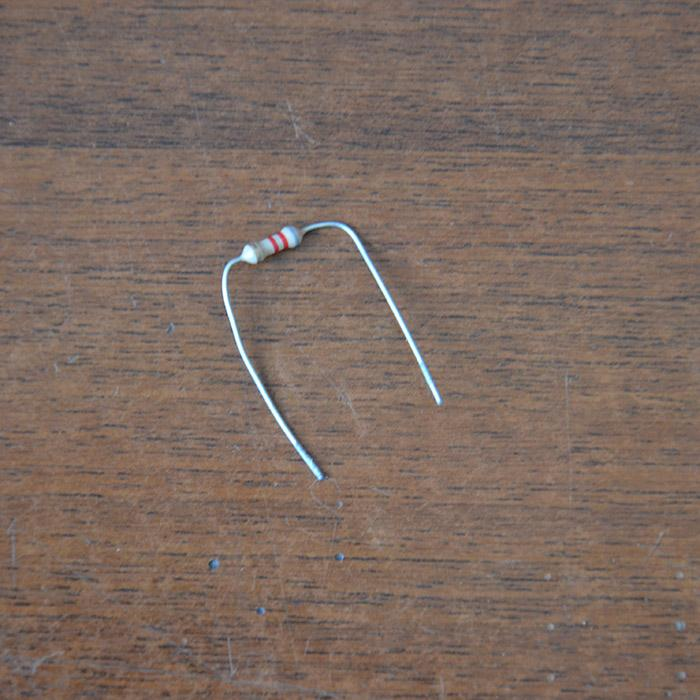resistor: (241, 224, 301, 265)
